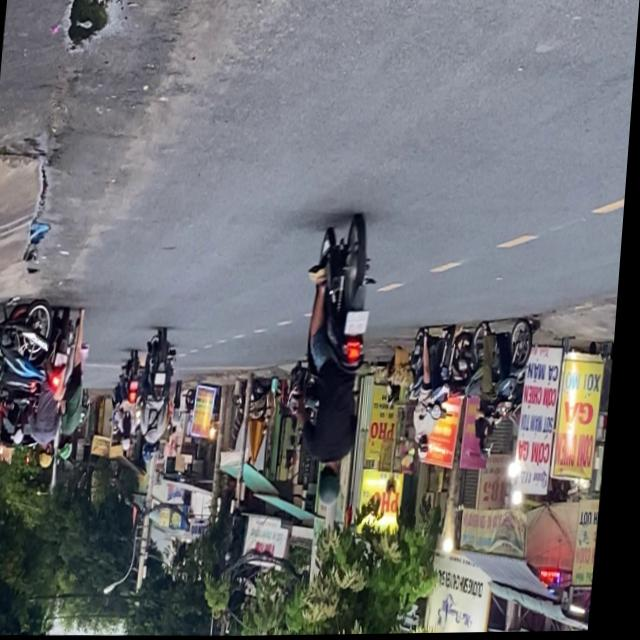helmet: (323, 464, 351, 508), (44, 444, 59, 468), (423, 437, 437, 462), (486, 437, 499, 460)
licenseplate: (294, 214, 386, 511), (471, 315, 542, 462), (407, 324, 463, 463)
nohelmet: (349, 312, 373, 335)
